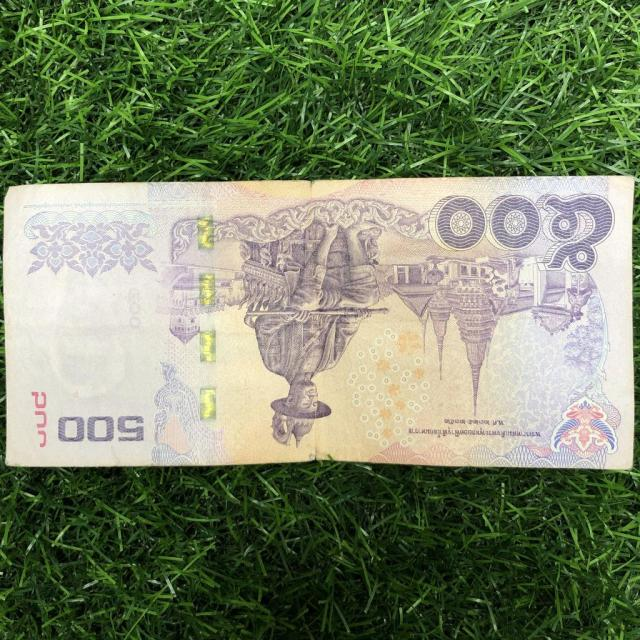THAI500: (2, 176, 636, 474)
